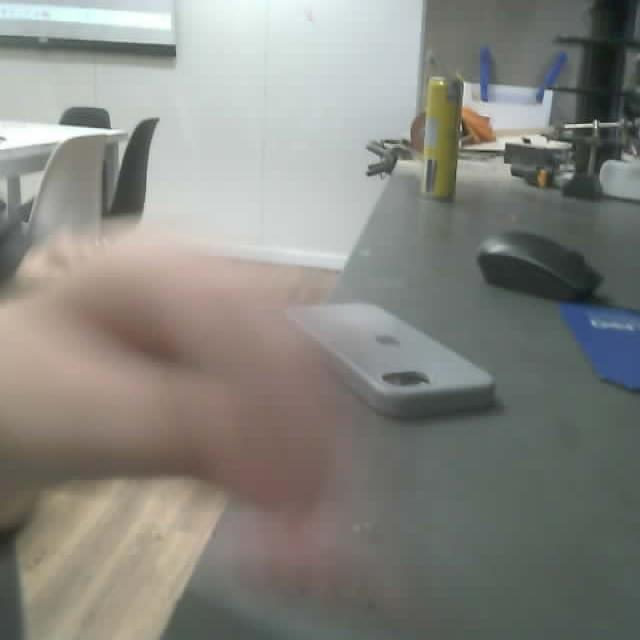phone: (281, 300, 497, 416)
